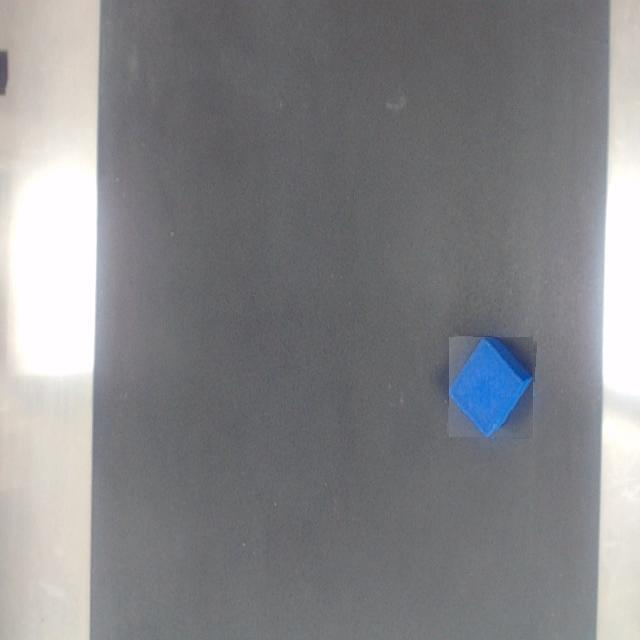Azul: (449, 337, 534, 437)
